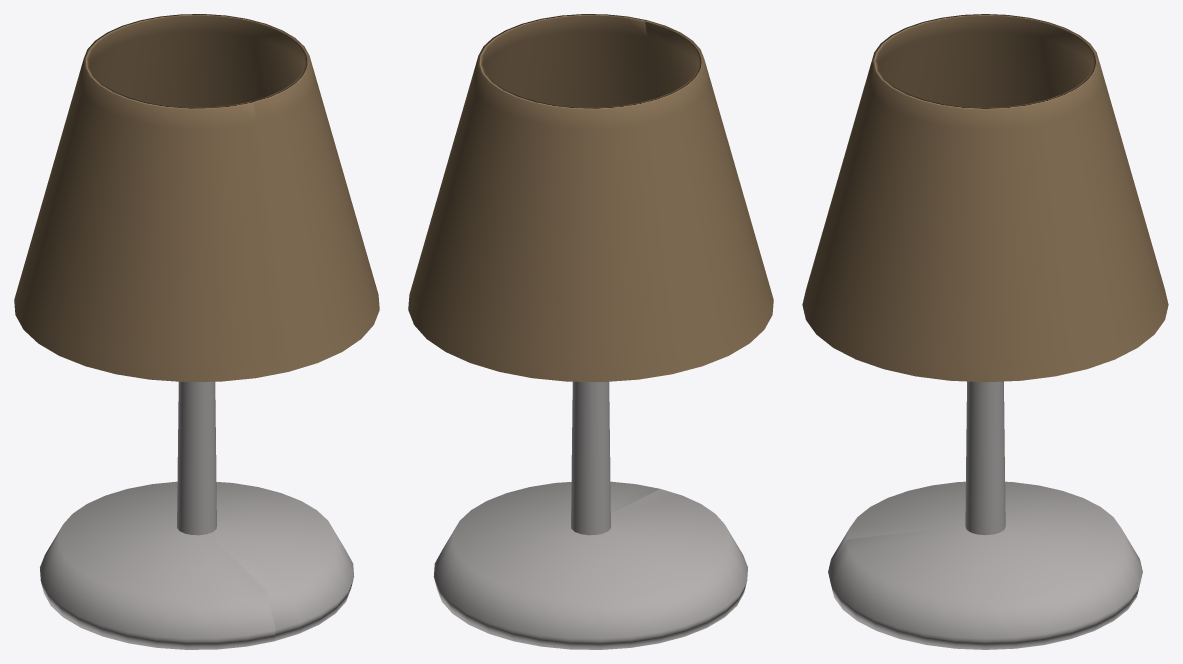
The model's file is table_lamp.glb.
The picture shows the model from 3 angles, left to right: view 1: azimuth 30°, elevation 25°; view 2: azimuth 150°, elevation 25°; view 3: azimuth 270°, elevation 25°; orthographic projection.
Visible parts, largest first — view 1: Lamp_Diffuser_Shade, Lamp_Weighted_Base, Lamp_Central_Stem; view 2: Lamp_Diffuser_Shade, Lamp_Weighted_Base, Lamp_Central_Stem; view 3: Lamp_Diffuser_Shade, Lamp_Weighted_Base, Lamp_Central_Stem.
Part boxes in pixels (box(x1,y1,x2,y2)): Lamp_Diffuser_Shade: box(14, 14, 379, 381); Lamp_Weighted_Base: box(40, 481, 354, 649); Lamp_Central_Stem: box(177, 381, 216, 535); Lamp_Diffuser_Shade: box(408, 14, 773, 381); Lamp_Weighted_Base: box(433, 481, 747, 649); Lamp_Central_Stem: box(571, 381, 610, 535); Lamp_Diffuser_Shade: box(802, 14, 1168, 382); Lamp_Weighted_Base: box(828, 481, 1142, 649); Lamp_Central_Stem: box(965, 381, 1005, 535).
Size of the model in its own units: 0.6285 by 0.99 by 0.6285.
